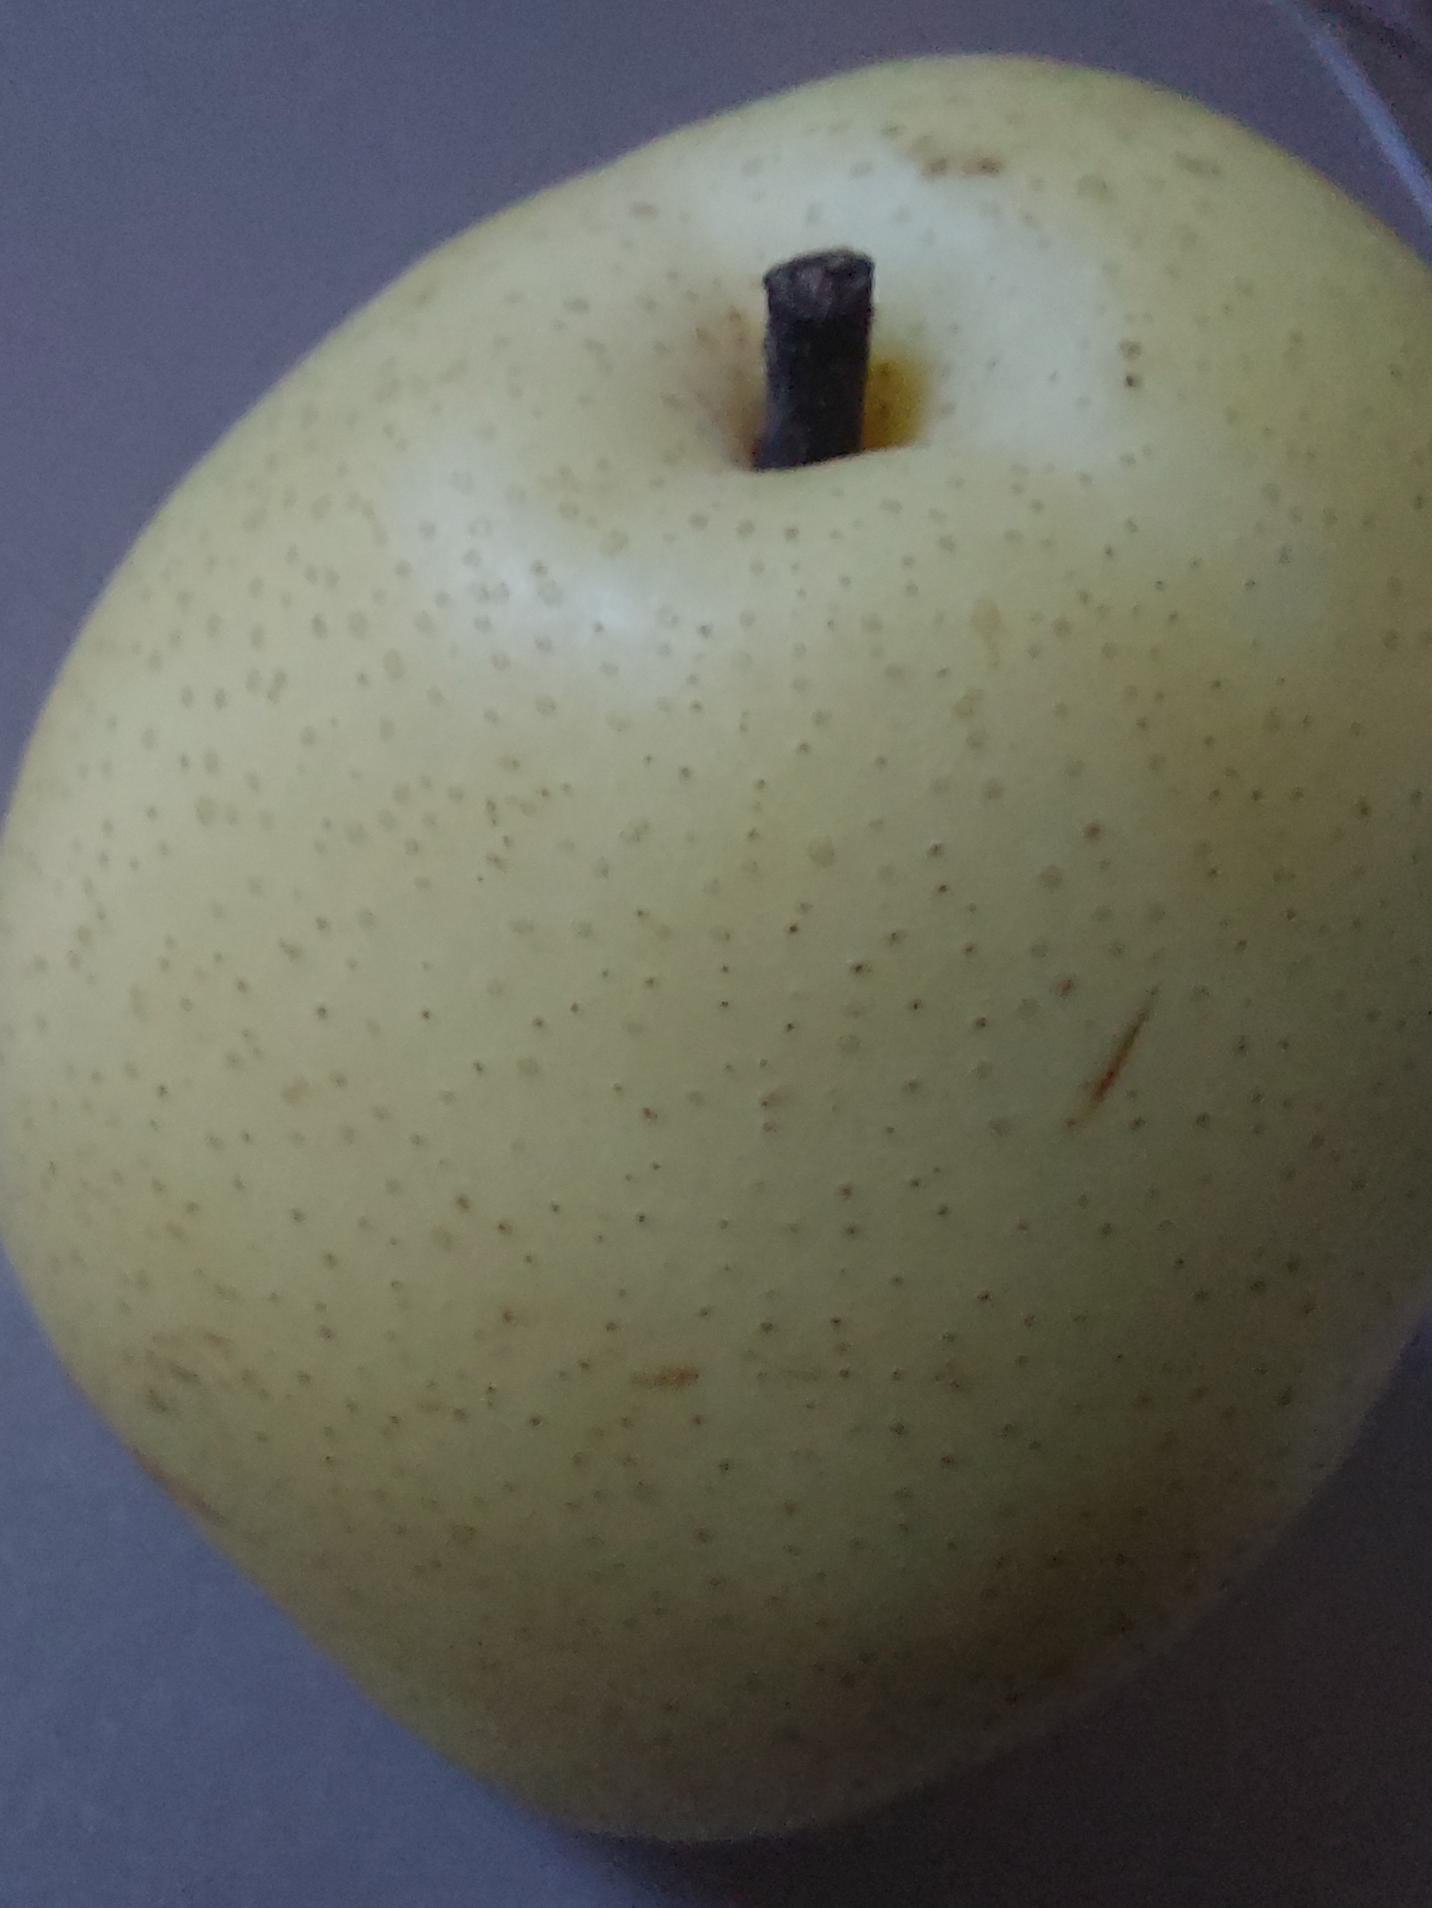Good Pear: (0, 26, 1432, 1866)
